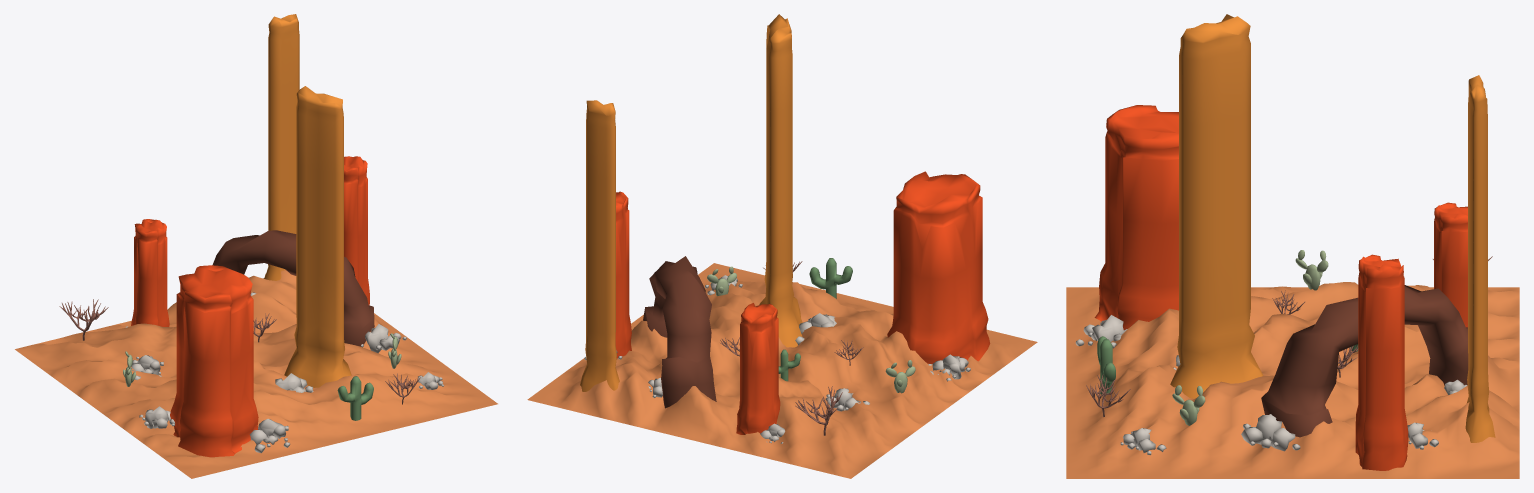
Rendered from desert.glb.
The picture shows the model from 3 angles, left to right: view 1: azimuth 30°, elevation 25°; view 2: azimuth 150°, elevation 25°; view 3: azimuth 270°, elevation 25°; orthographic projection. The views are drawn at different scales.
Visible parts, largest first — view 1: DesertDunes_Tile1x1.001; view 2: DesertDunes_Tile1x1.001; view 3: DesertDunes_Tile1x1.001.
Part boxes in pixels (left/top/right/bottom): DesertDunes_Tile1x1.001: left=15, top=14, right=497, bottom=478; DesertDunes_Tile1x1.001: left=527, top=14, right=1037, bottom=478; DesertDunes_Tile1x1.001: left=1066, top=14, right=1519, bottom=478.
Bounding box in the file's own units: 4 × 3.76 × 4.
